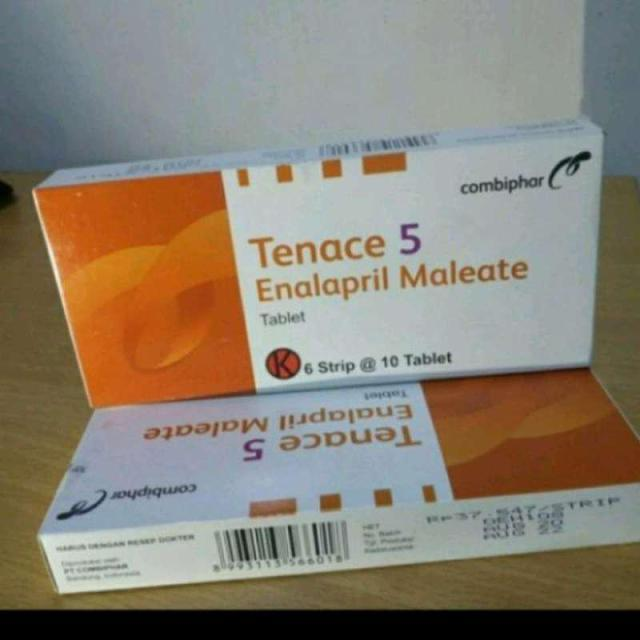drug-name: (246, 220, 427, 271)
